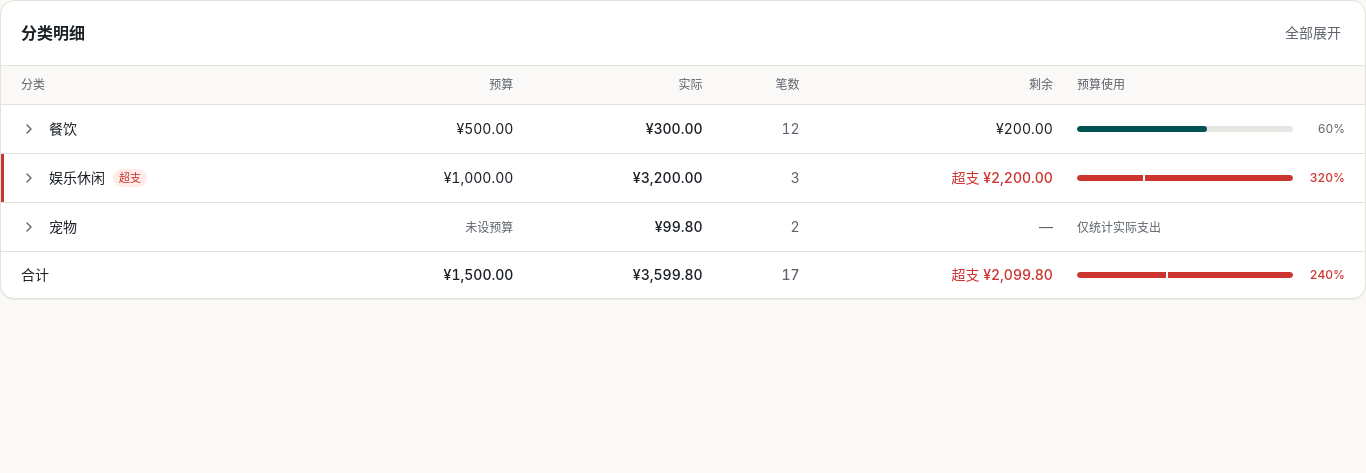
Test: CategoryTable › expands and collapses everything
Click the button "全部展开". click: [1313, 33]
box: [1273,17,1353,49]
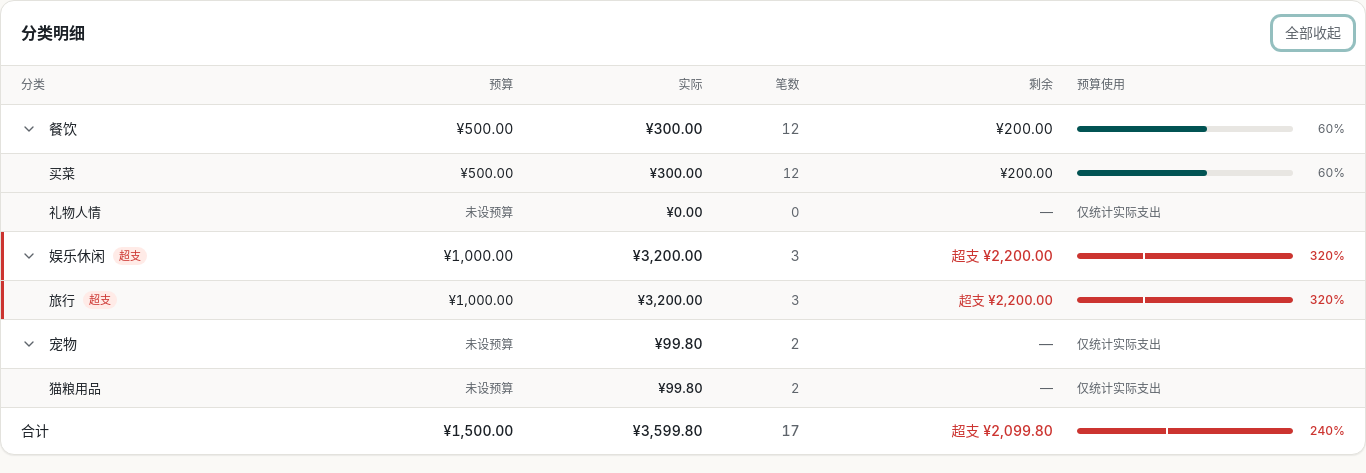
Expected: the text "买菜" is shown, [49,162,75,184]
Expected: the text "旅行" is shown, [49,289,75,311]
Expected: the text "猫粮用品" is shown, [49,377,101,399]
Click the button "全部收起". click: [1313, 33]
box: [1273,17,1353,49]
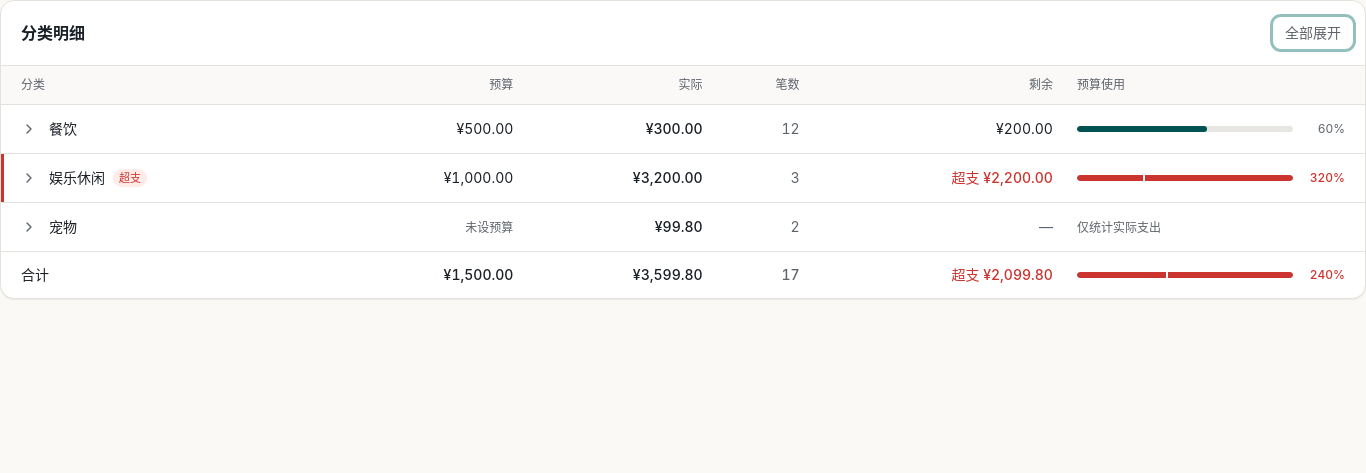
Expected: the text "旅行" is gone
